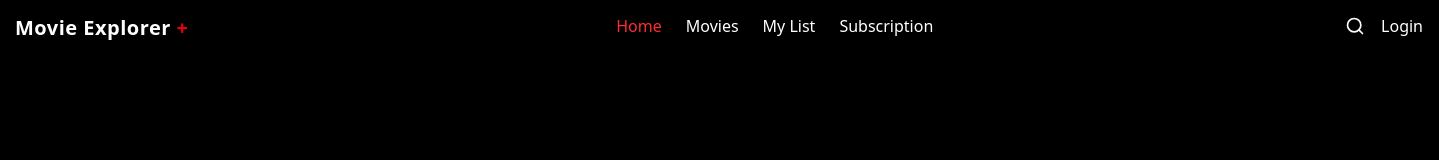
it: Header Component › toggles search bar
This screenshot has width=1439, height=160.
Click the icon named "search" at (1355,26), box top-left (1345, 16), bottom-right (1365, 36)
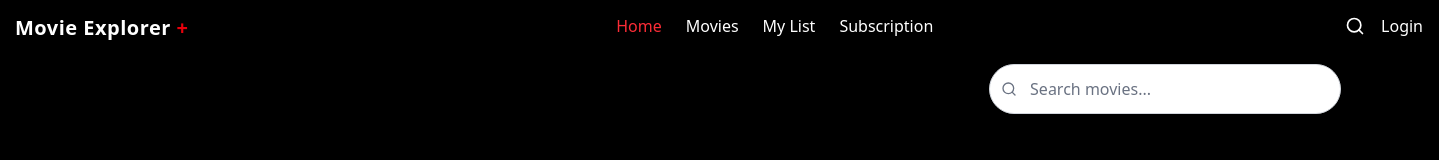
Result: the field with test id "search-input" is shown at top-left (989, 64), bottom-right (1341, 114)
Click the 1st icon named "search" at (1355,26), box top-left (1345, 16), bottom-right (1365, 36)
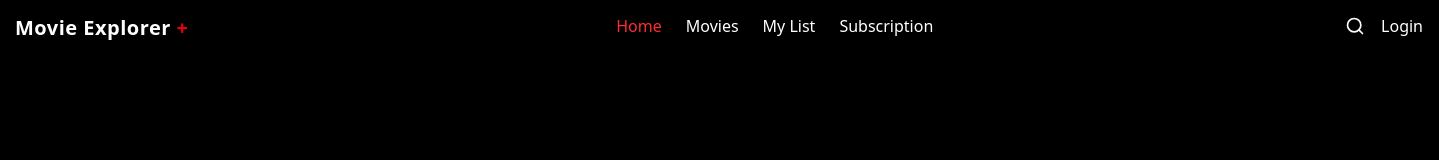
Result: the field with test id "search-input" is gone
